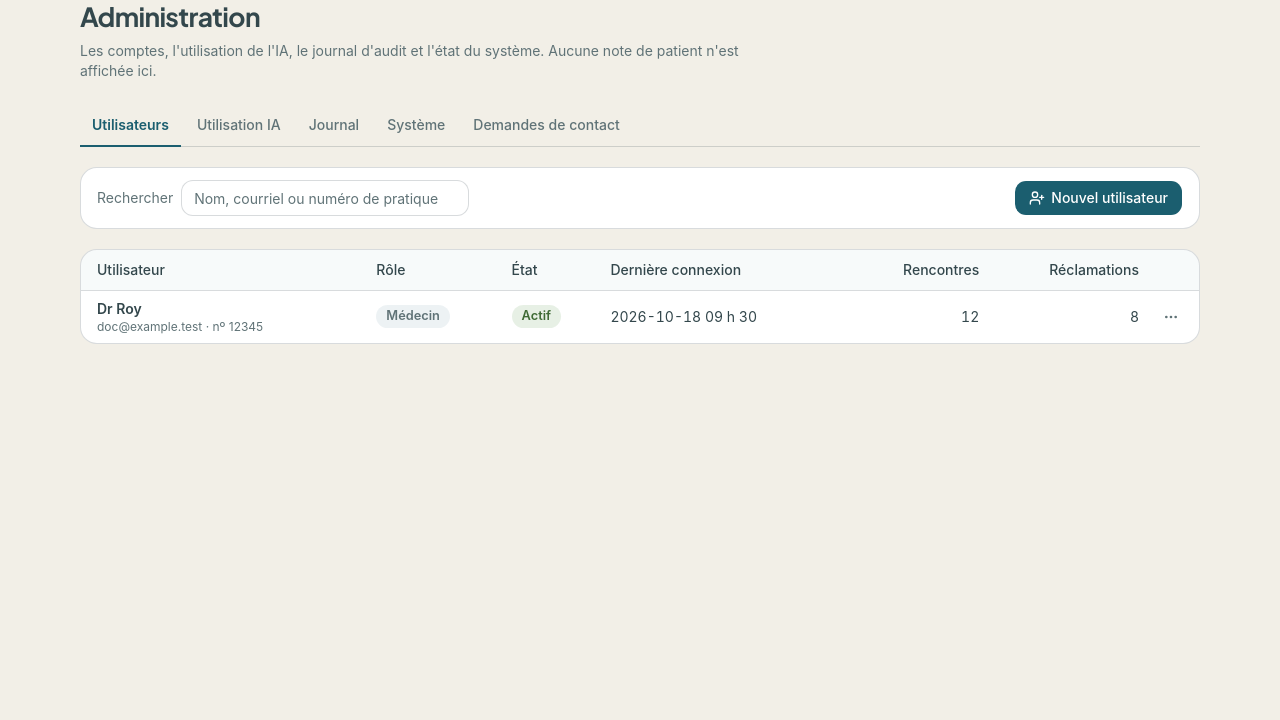
Test: users tab › deactivates an account after confirming
Expected: the text "Dr Roy" is shown, [97,300,142,316]
Click the button named "Actions — Dr Roy" at (1171,316), box [1155,300,1187,332]
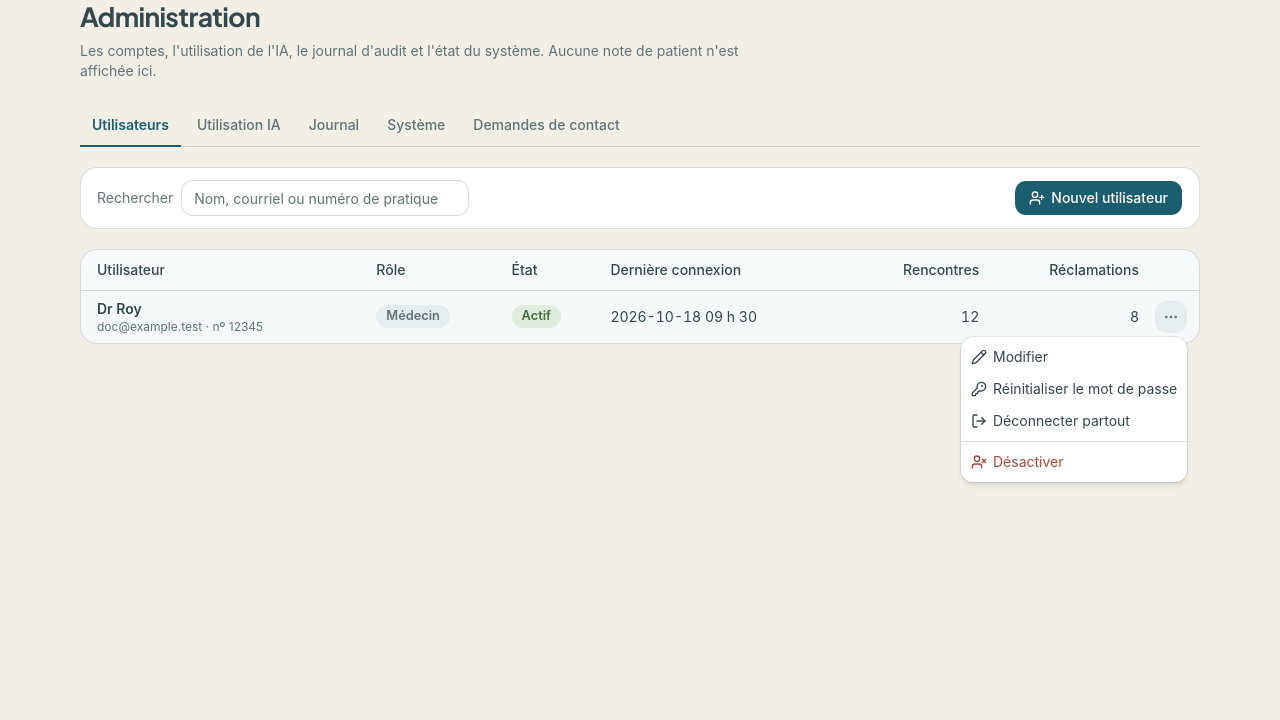
Click the menu item "Désactiver" at (1017,462), box [971,453,1064,470]
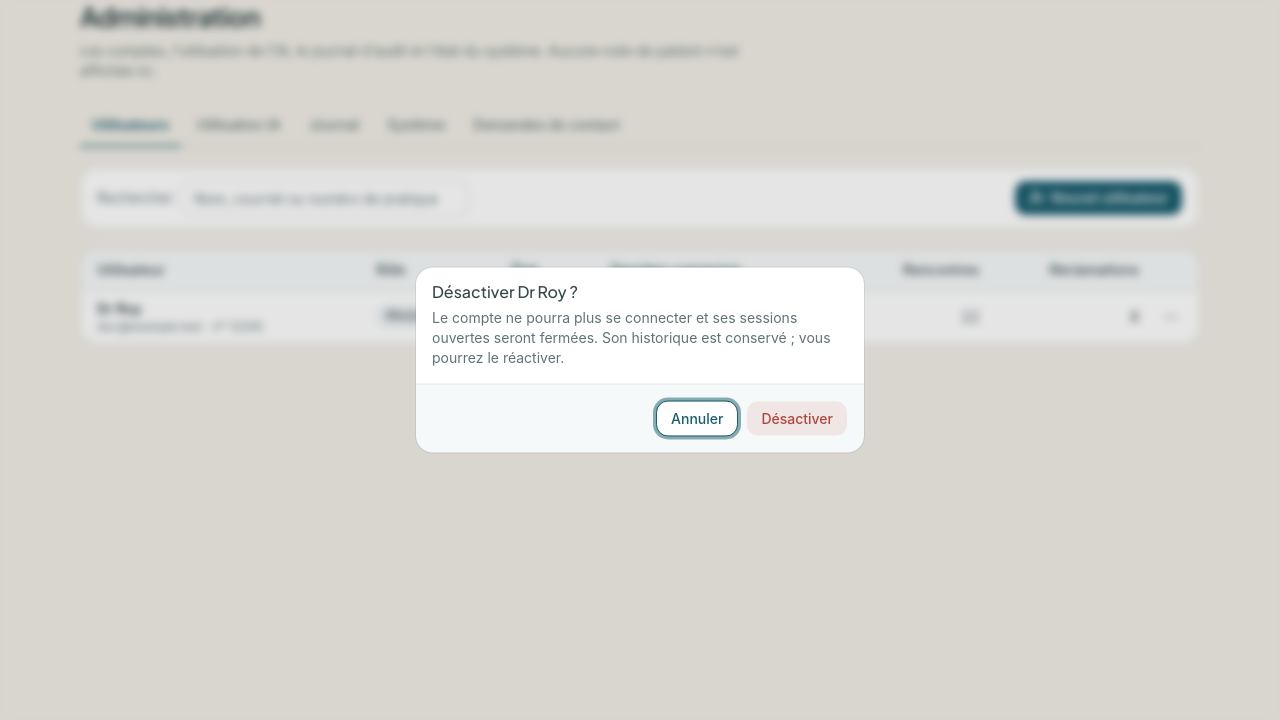
Click the button "Désactiver" at (797,418), box [746,400,848,436]
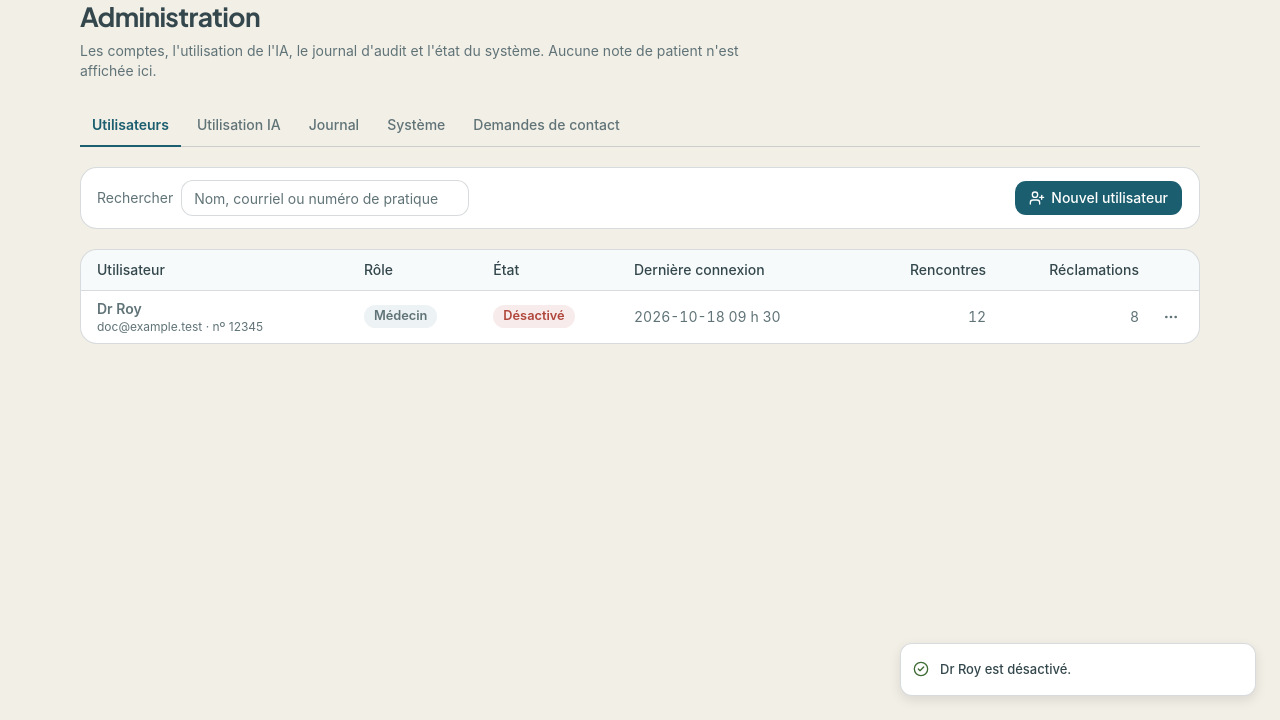
Expected: the text "Désactivé" is shown, [493,305,575,328]
